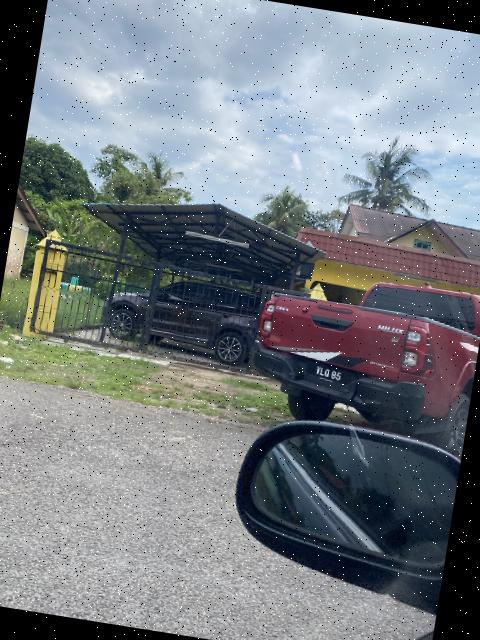License_Plate: (304, 361, 354, 391)
car: (232, 249, 480, 462)
